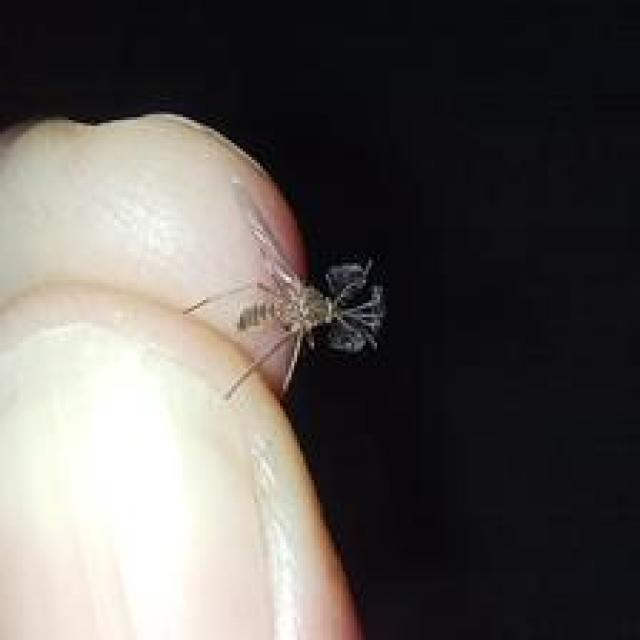Culex: (182, 186, 387, 403)
